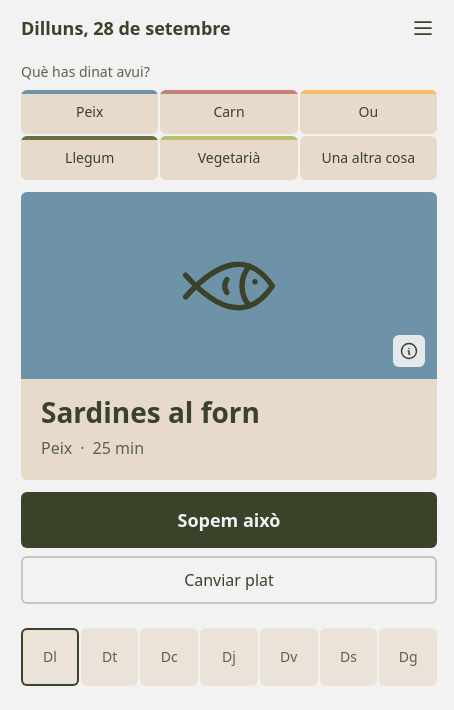
Test: TodayScreen › dinar › registrar el dinar el desa i, si coincideix, substitueix la proposta
This screenshot has width=454, height=710.
Check: the heading "Dilluns, 28 de setembre" is shown, box top-left (21, 16), bottom-right (231, 40)
Click the button "Peix": click(90, 112) top-left (21, 90), bottom-right (158, 134)
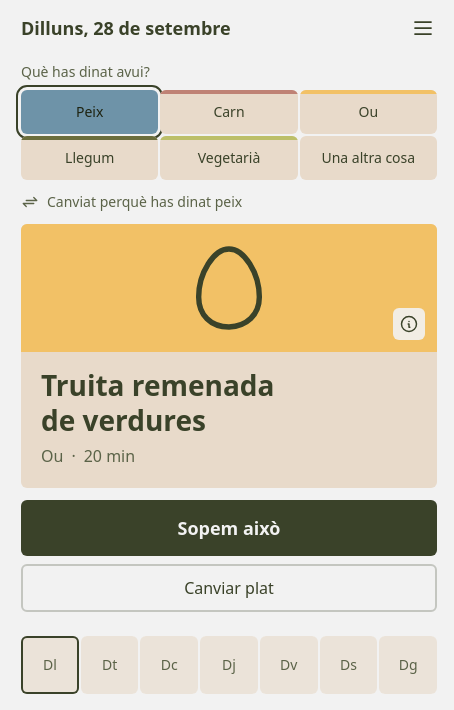
Check: the text "Canviat perquè has dinat peix" is shown, box top-left (21, 192), bottom-right (242, 211)
Check: the heading "Sardines al forn" is gone
